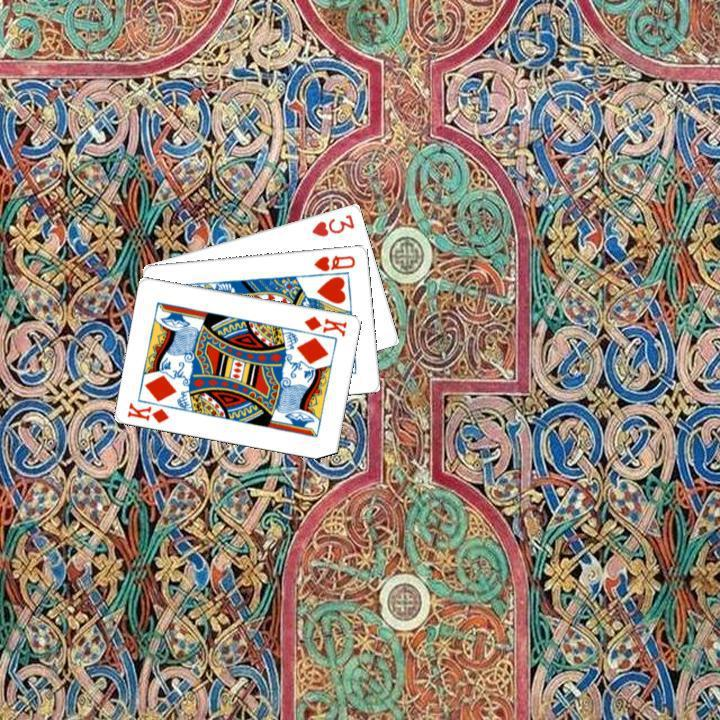3: (308, 210, 357, 238)
K: (300, 311, 349, 338), (123, 398, 171, 425)
Q: (310, 251, 358, 273)
